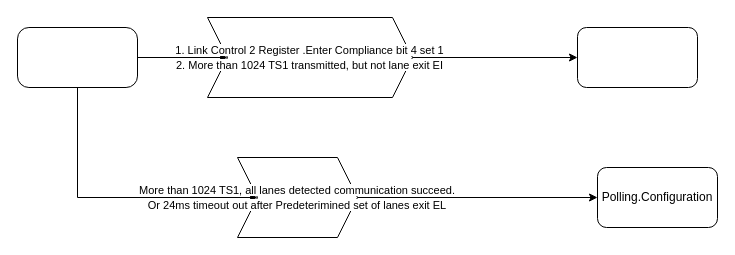
This 735x255 diagram has some shape labels left out. The box of each missing label's shape, as (x1, y1, x2, y2) in pixels:
Polling.Active: (16, 26, 138, 88)
Polling.Compliance: (576, 26, 698, 88)
